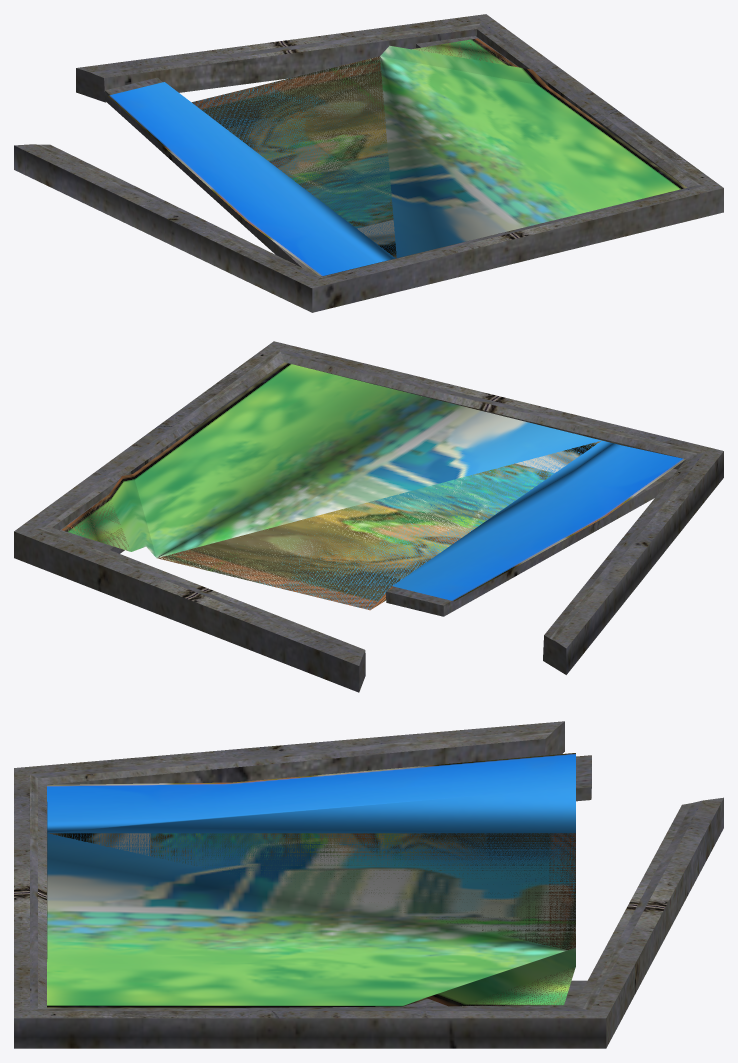
The model's file is M_Home_Garden_Painting_019.fbx.
3 views of the same model, one above another, from view 1: azimuth 30°, elevation 25°; view 2: azimuth 150°, elevation 25°; view 3: azimuth 270°, elevation 25° (orthographic). The views are drawn at different scales.
Visible parts, largest first — view 1: M_Home_Garden_Painting_019; view 2: M_Home_Garden_Painting_019; view 3: M_Home_Garden_Painting_019.
Part boxes in pixels (x1=…): M_Home_Garden_Painting_019: x1=14, y1=14, x2=723, y2=312; M_Home_Garden_Painting_019: x1=14, y1=341, x2=723, y2=692; M_Home_Garden_Painting_019: x1=14, y1=721, x2=723, y2=1048.
Bounding box in the file's own units: 103 × 9.46 × 104.
